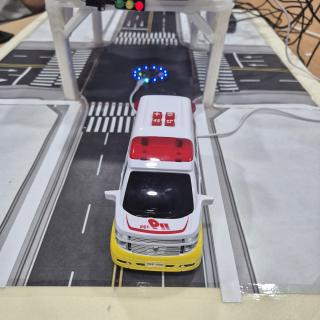Ambulance: (105, 95, 214, 272)
